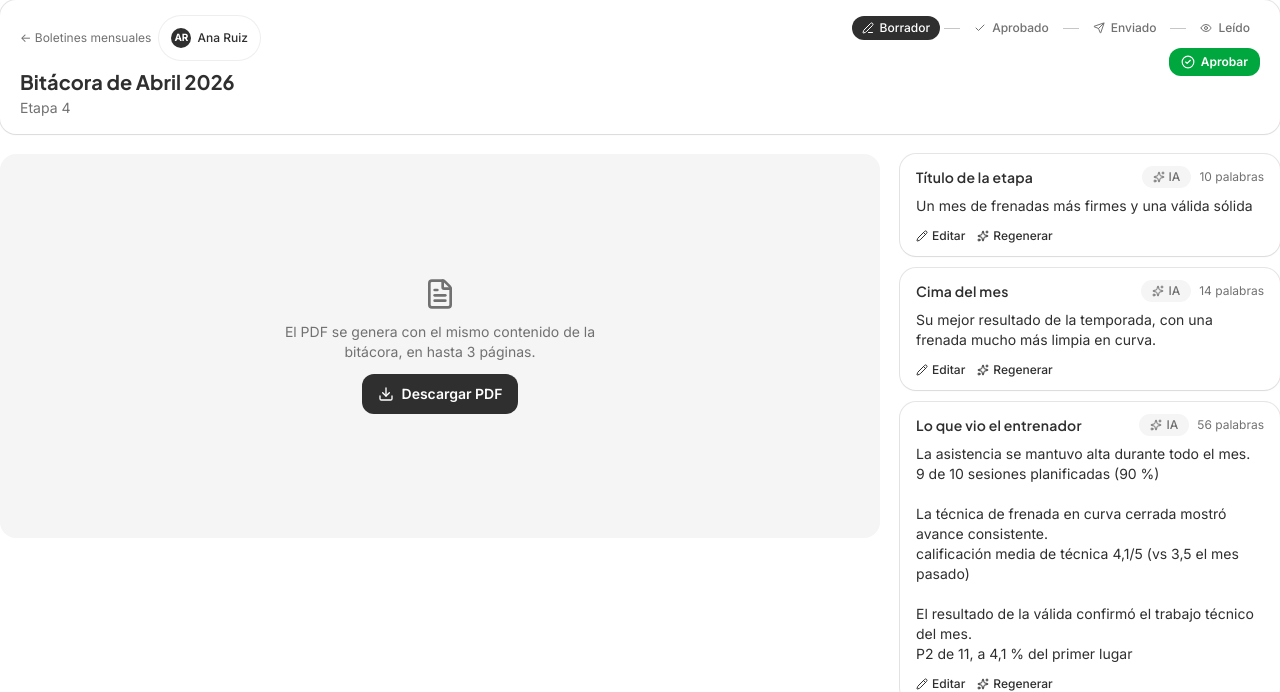
Scenario: AthleteNewsletterStudioPage › 'Seguir editando' cierra el diálogo, mantiene el banner y el draft
Expected: the element with test id "block-card-header" is shown, [900,154,1279,256]
Click the button with test id "block-edit-header". click: [941, 236]
box: [916,228,965,244]
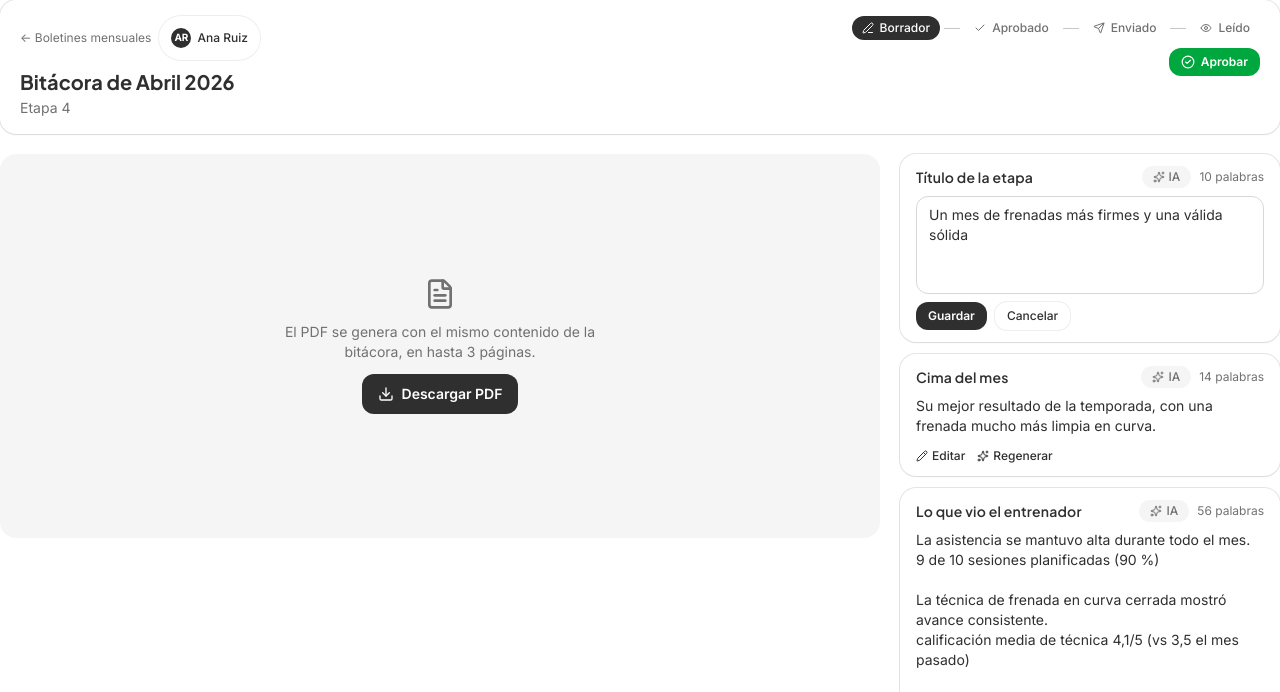
Replace the text in the text box named "Editar Título de la etapa" with "Texto que no se debe perder". click: [1090, 245]
box: [916,196,1264,294]
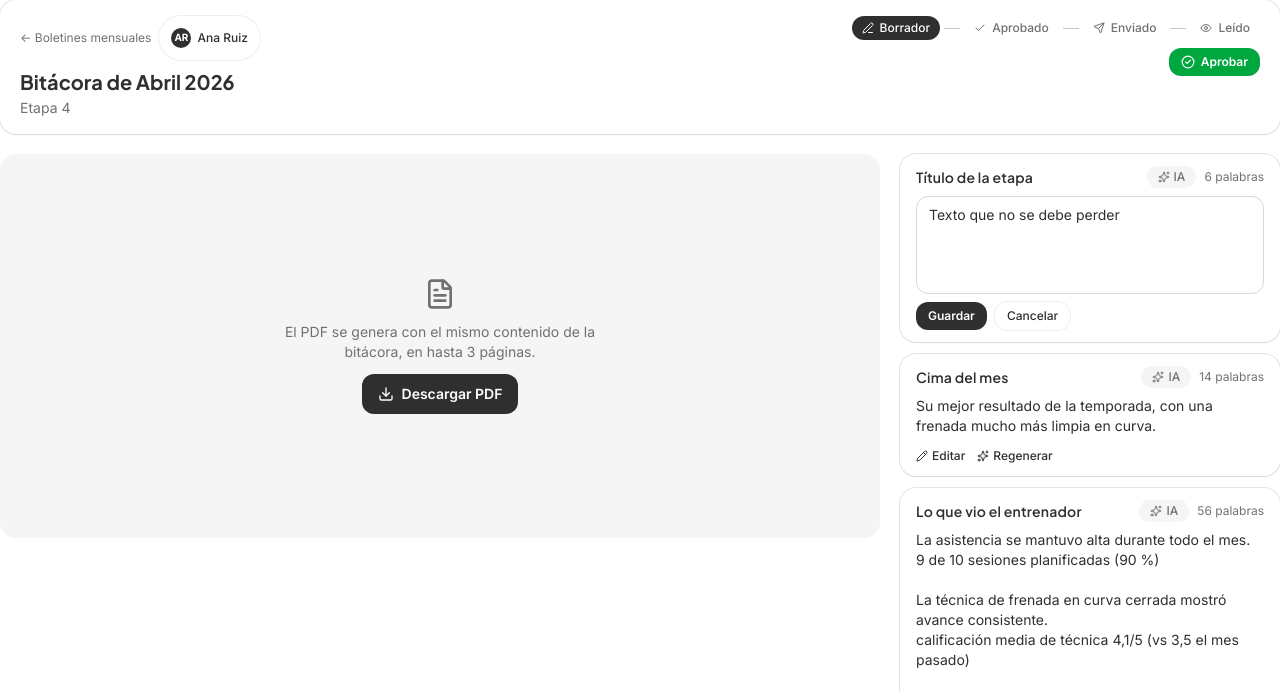
Click the button with test id "block-save-header". click: [951, 316]
box: [916,302,987,330]
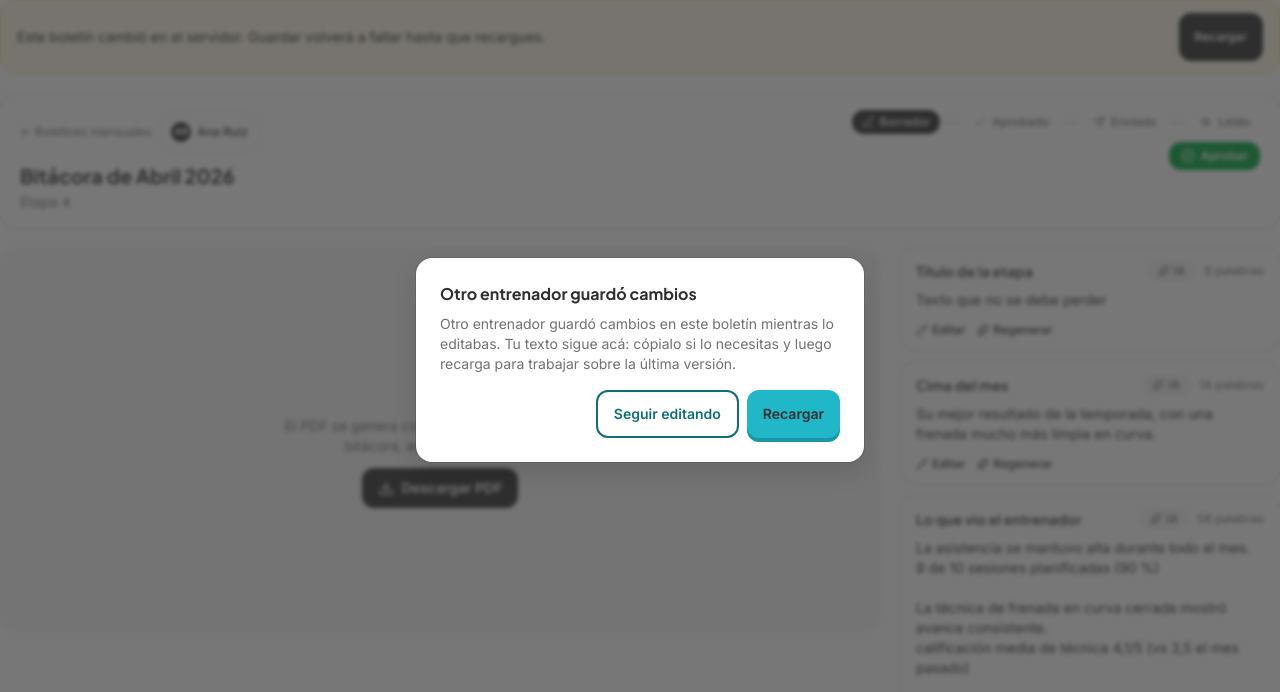
Result: the dialog with test id "newsletter-conflict-dialog" is shown at [416,258,864,462]
Click the button with test id "newsletter-conflict-keep-editing". click: [667, 414]
box: [596,390,739,438]
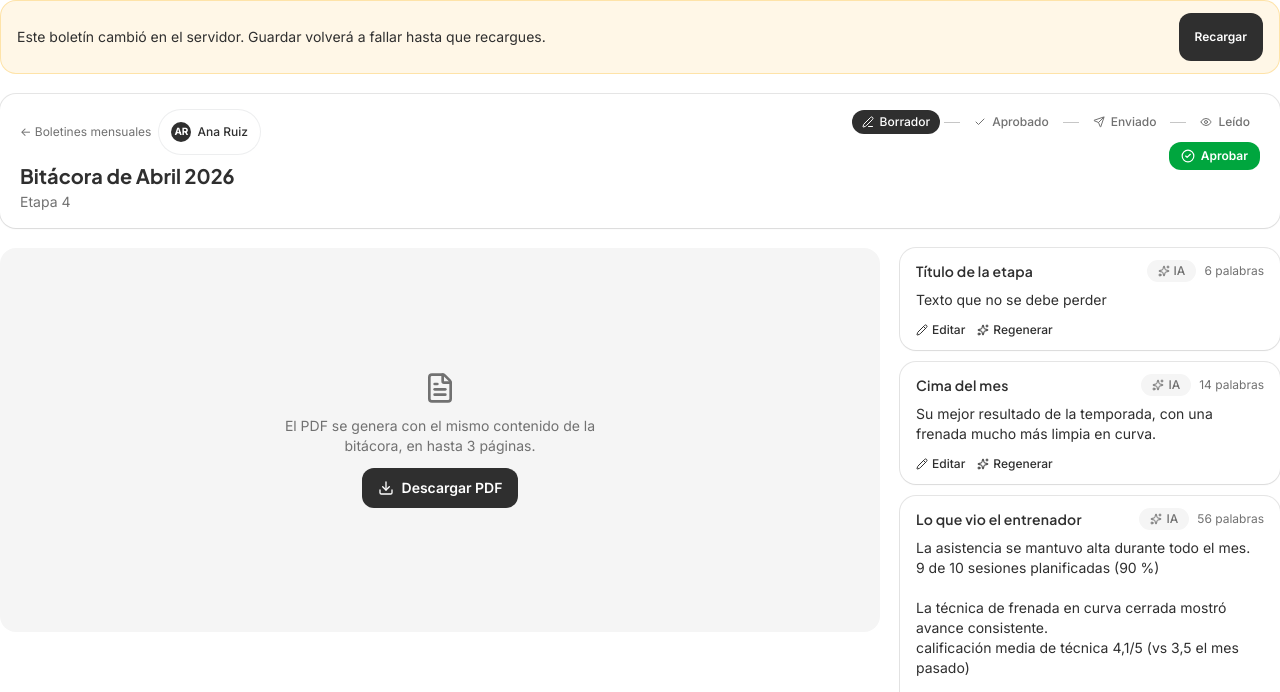
Result: the message with test id "newsletter-conflict-banner" is shown at [0,0,1279,74]
Result: the element with test id "block-card-header" shows "Texto que no se debe perder" at [916,291,1107,308]
Result: the dialog with test id "newsletter-conflict-dialog" is gone
